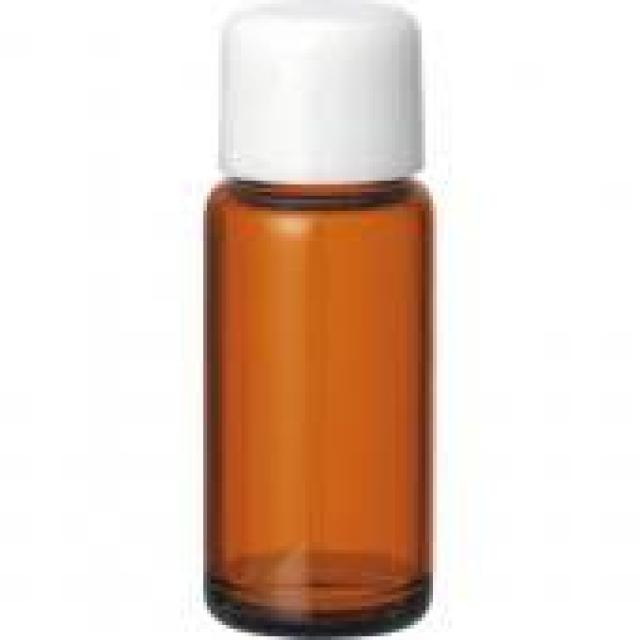glass: (207, 181, 425, 617)
plastic: (222, 4, 418, 181)
